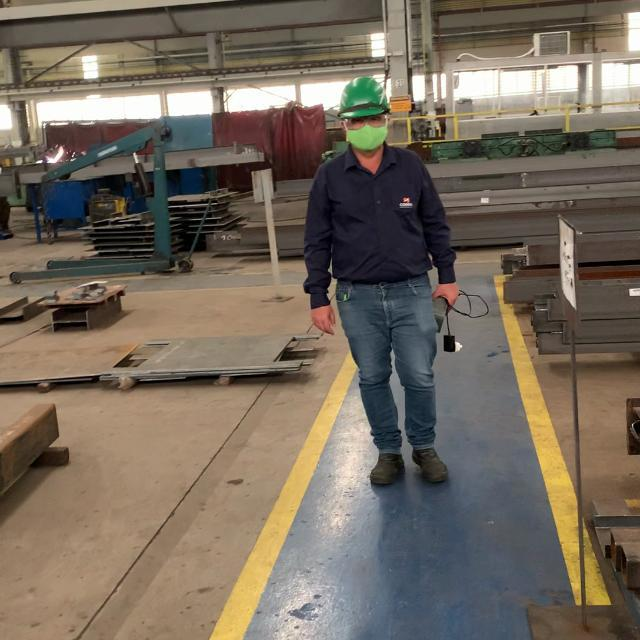eye-glass: (346, 116, 386, 128)
helmet: (337, 77, 390, 118)
mask: (345, 124, 386, 151)
person: (302, 74, 461, 487)
safety-shoe: (410, 446, 450, 485), (369, 448, 407, 485)
